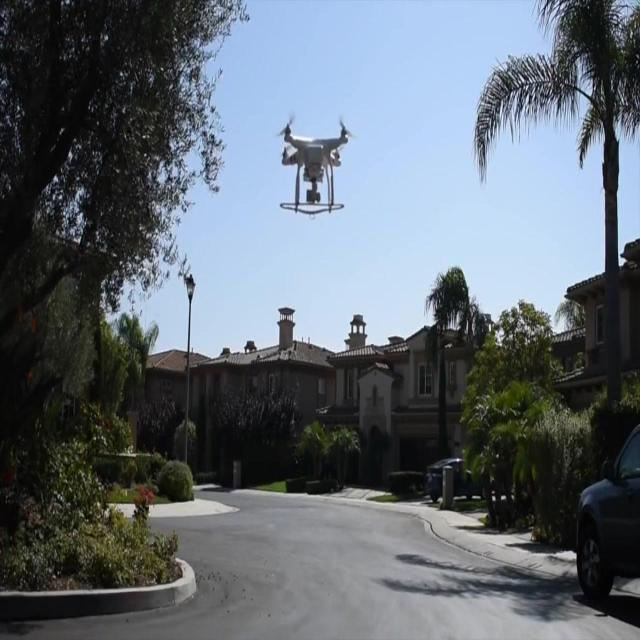drone: (276, 107, 351, 221)
